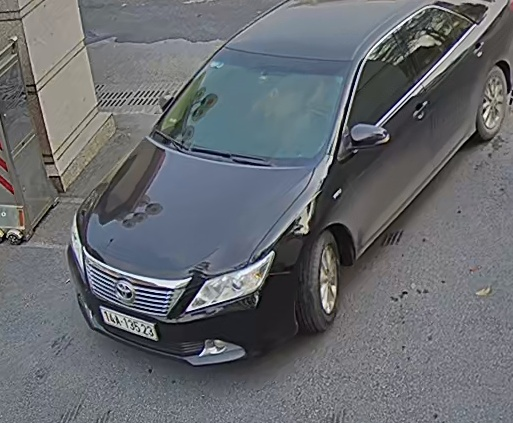vehicle plate: (95, 302, 162, 343)
